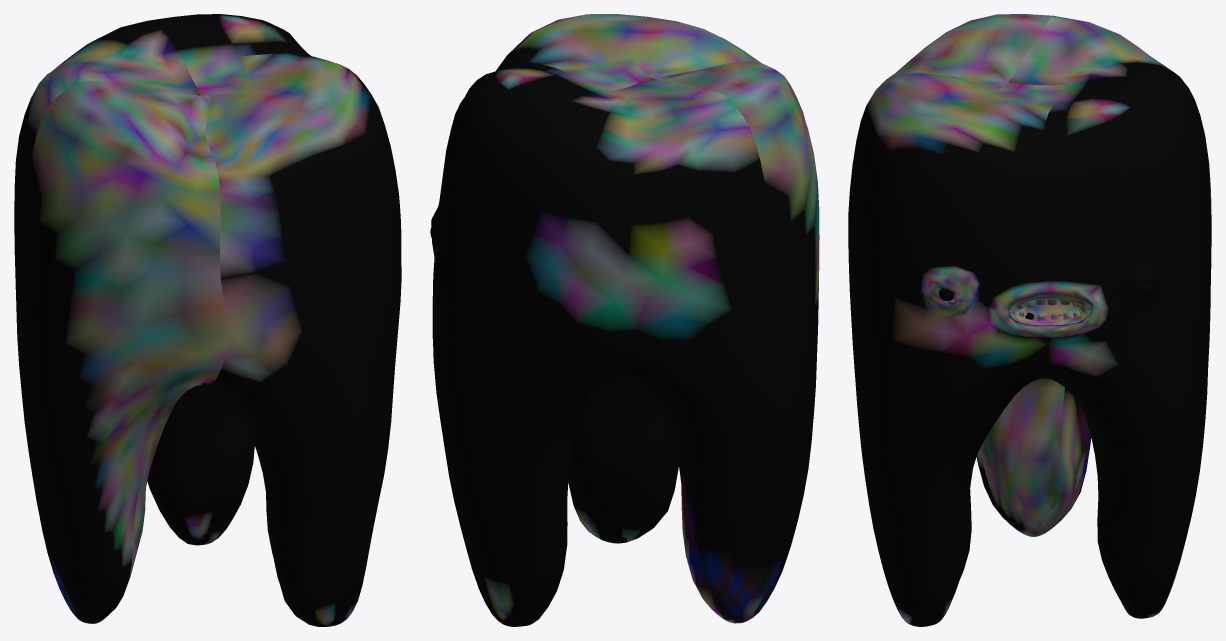
The model's file is Toopher_00_SM.gltf.
The picture shows the model from 3 angles, left to right: view 1: azimuth 30°, elevation 25°; view 2: azimuth 150°, elevation 25°; view 3: azimuth 270°, elevation 25°; orthographic projection. The views are drawn at different scales.
Visible parts, largest first — view 1: Toopher_00_SM; view 2: Toopher_00_SM; view 3: Toopher_00_SM.
Part boxes in pixels (x1,y1,x2,y2): Toopher_00_SM: (14,14,401,626); Toopher_00_SM: (430,14,819,626); Toopher_00_SM: (848,14,1211,626).
Bounding box in the file's own units: 0.1398 × 0.2211 × 0.139.
